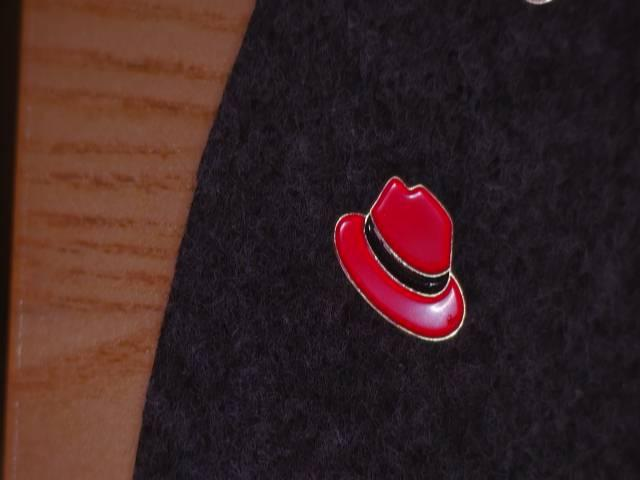Red-Hat: (316, 156, 523, 371)
